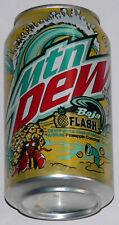metal: (5, 5, 113, 220)
